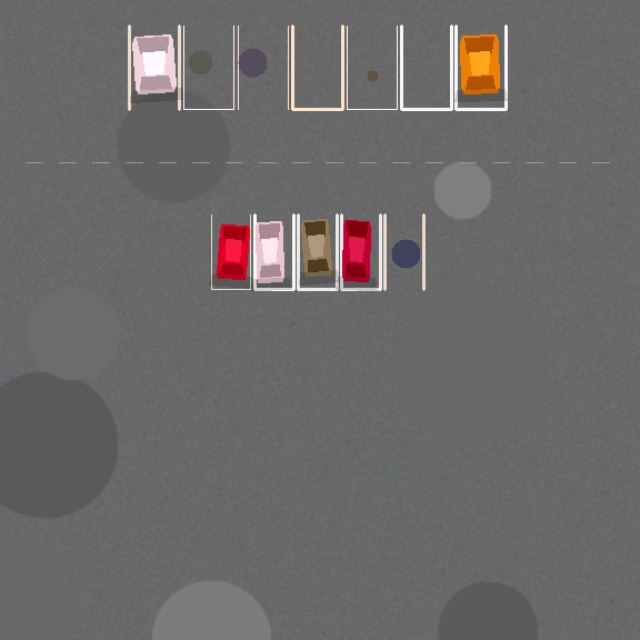space-empty: (183, 26, 233, 109), (238, 26, 288, 109), (292, 26, 342, 109), (347, 26, 397, 109), (401, 26, 451, 109), (384, 214, 423, 289)
space-occupied: (129, 26, 179, 109), (456, 26, 506, 109), (211, 214, 250, 289), (254, 214, 293, 289), (298, 214, 337, 289), (341, 214, 380, 289)
